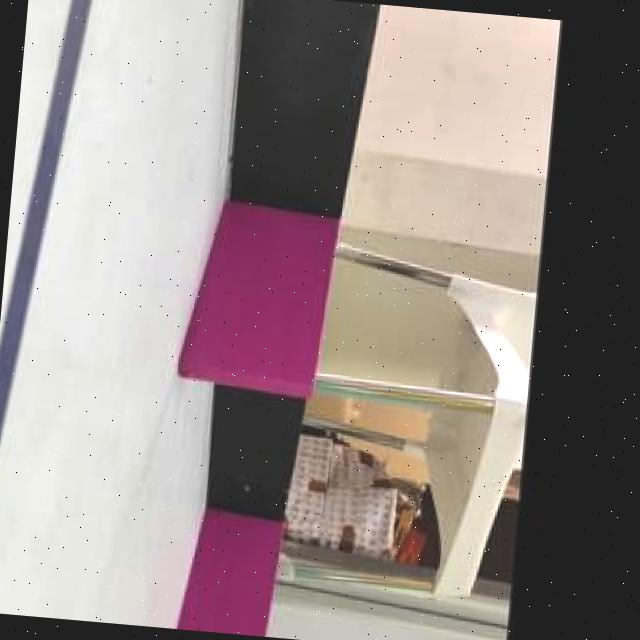xparking: (180, 218, 323, 388), (182, 518, 272, 636)
